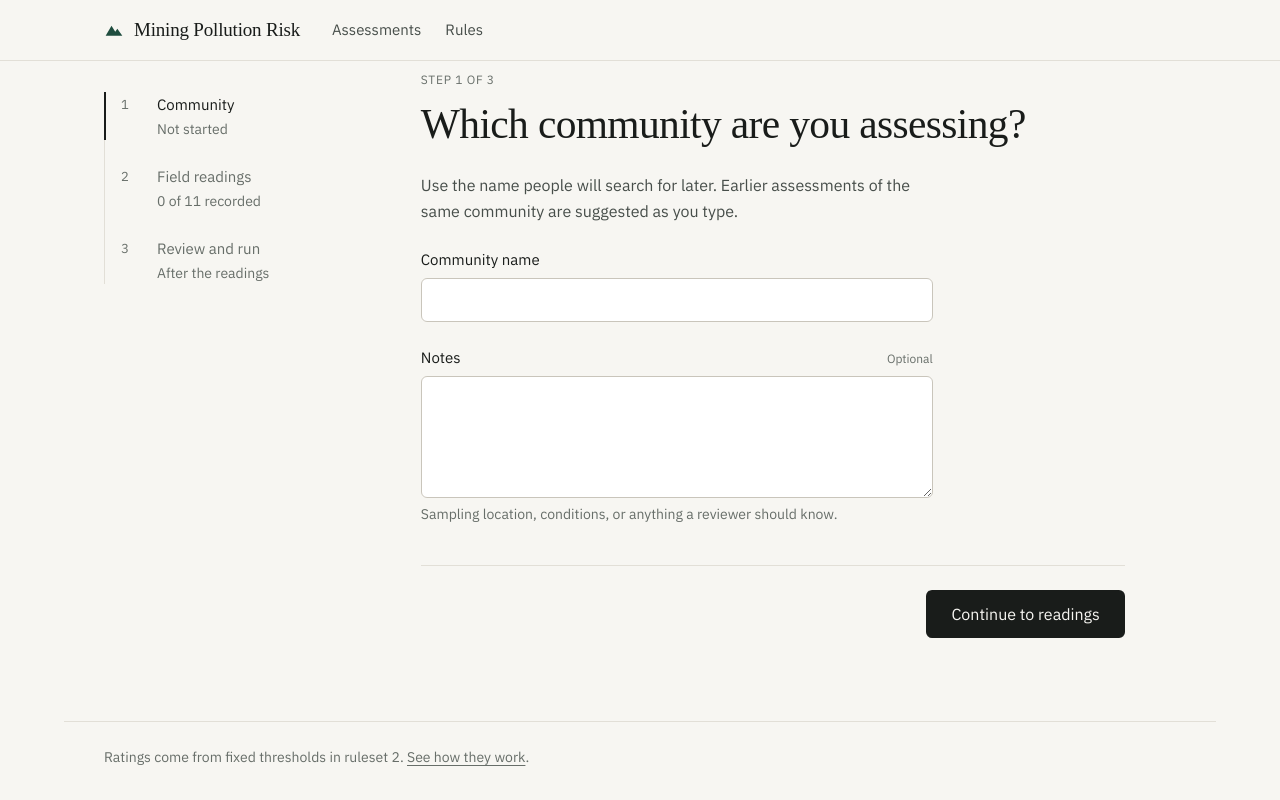
Test: New assessment workflow › starts on the community step and will not continue without a name
(page scrolled)
expect the text "Step 1 of 3" is shown: met, box [421,72,495,87]
Click the button "Continue to readings" at coordinates (1026, 614), box [926,590,1125,638]
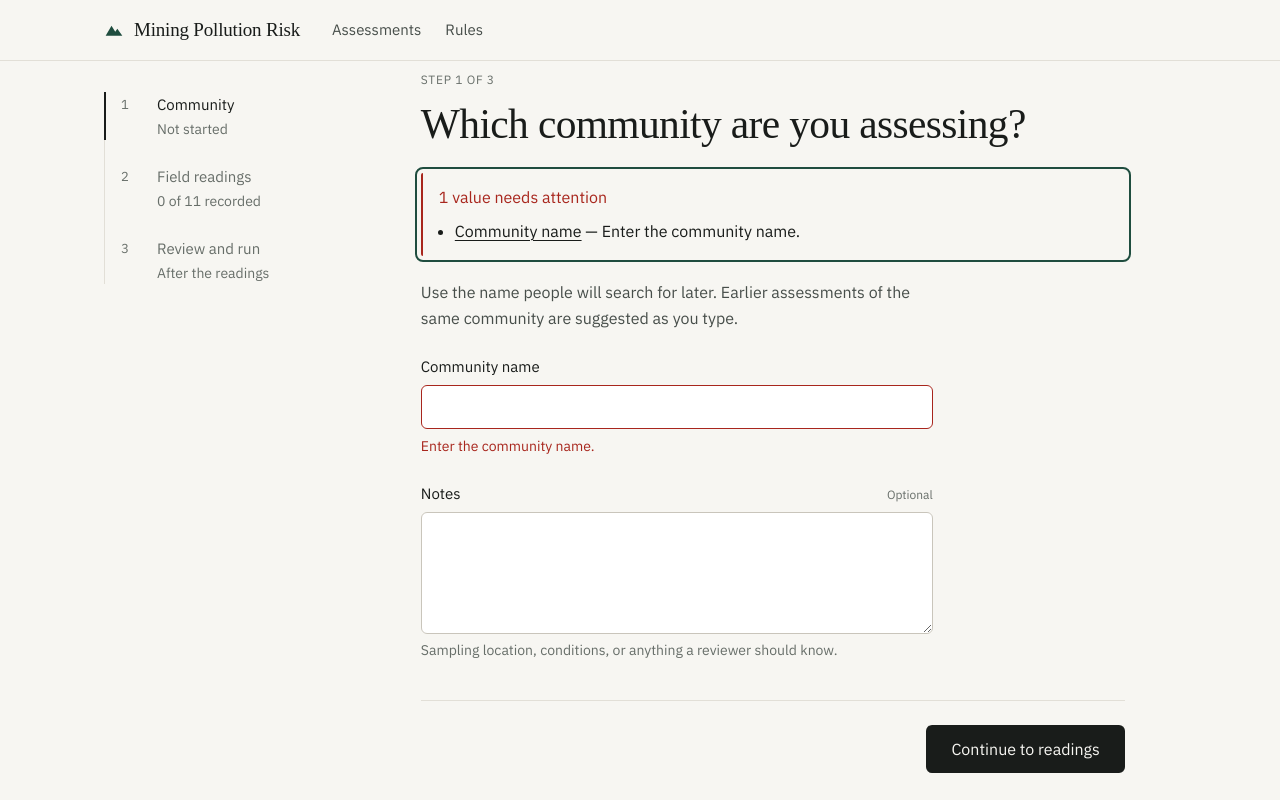
expect the heading "Which community are you assessing?" is shown: met, box [421,101,1125,149]
expect the text "1 value needs attention" is shown: met, box [439,187,607,207]
